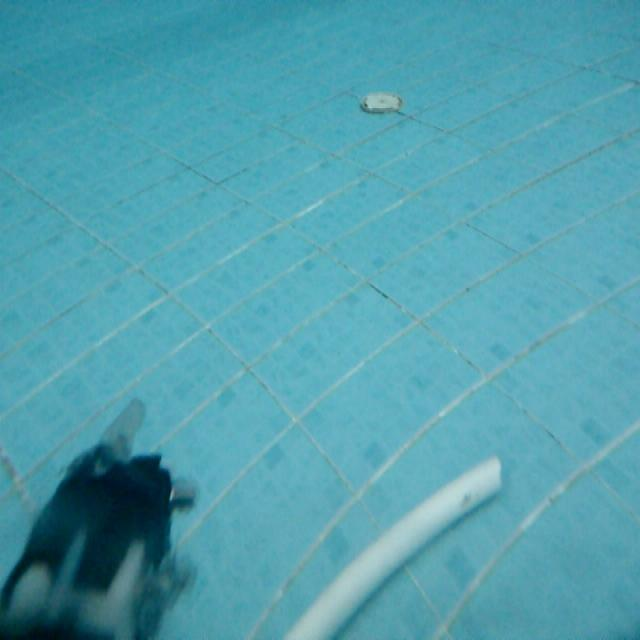Cube: (270, 449, 505, 639)
